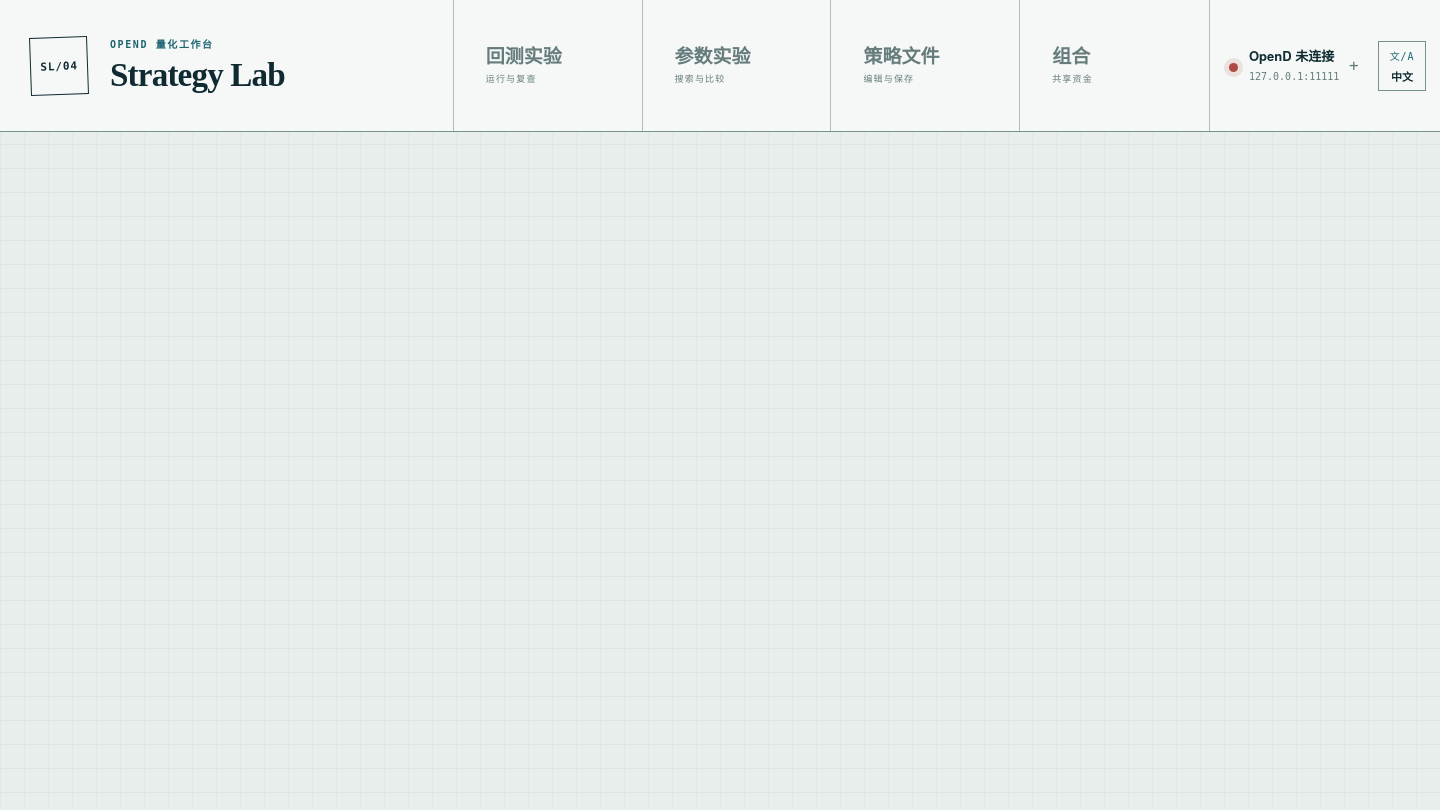
Test case: Header › loads detailed readiness checks when the OpenD status is opened
This screenshot has width=1440, height=810.
Step 1. Click the button "OpenD 未连接 127.0.0.1:11111 +" → click(1297, 66), box [1224, 38, 1370, 93]
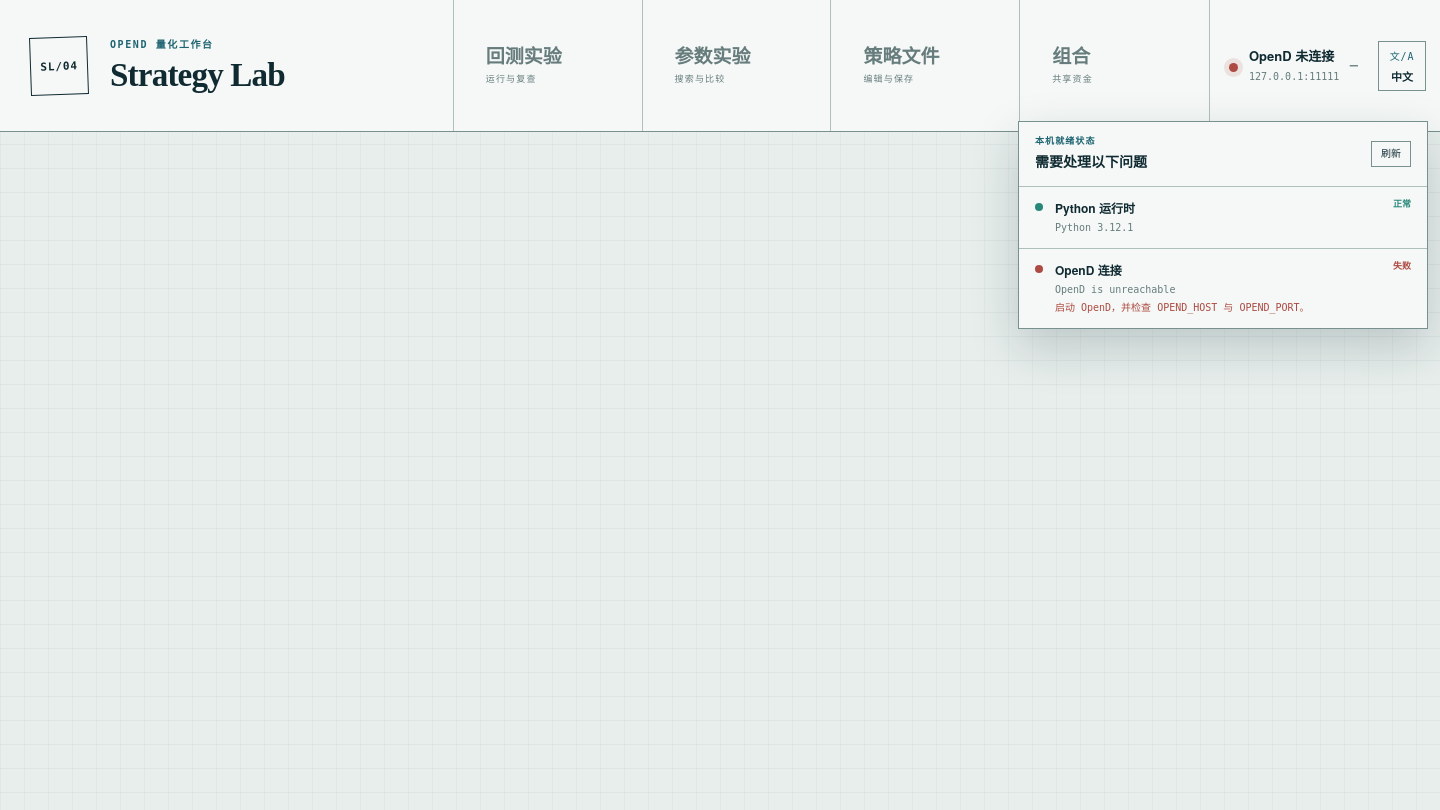
Check: the text "Python 3.12.1" is shown, box [1055, 222, 1133, 233]
Check: the element named "系统诊断" shows "OpenD is unreachable", box [1055, 284, 1175, 294]
Check: the text "需要处理以下问题" is shown, box [1035, 151, 1147, 171]
